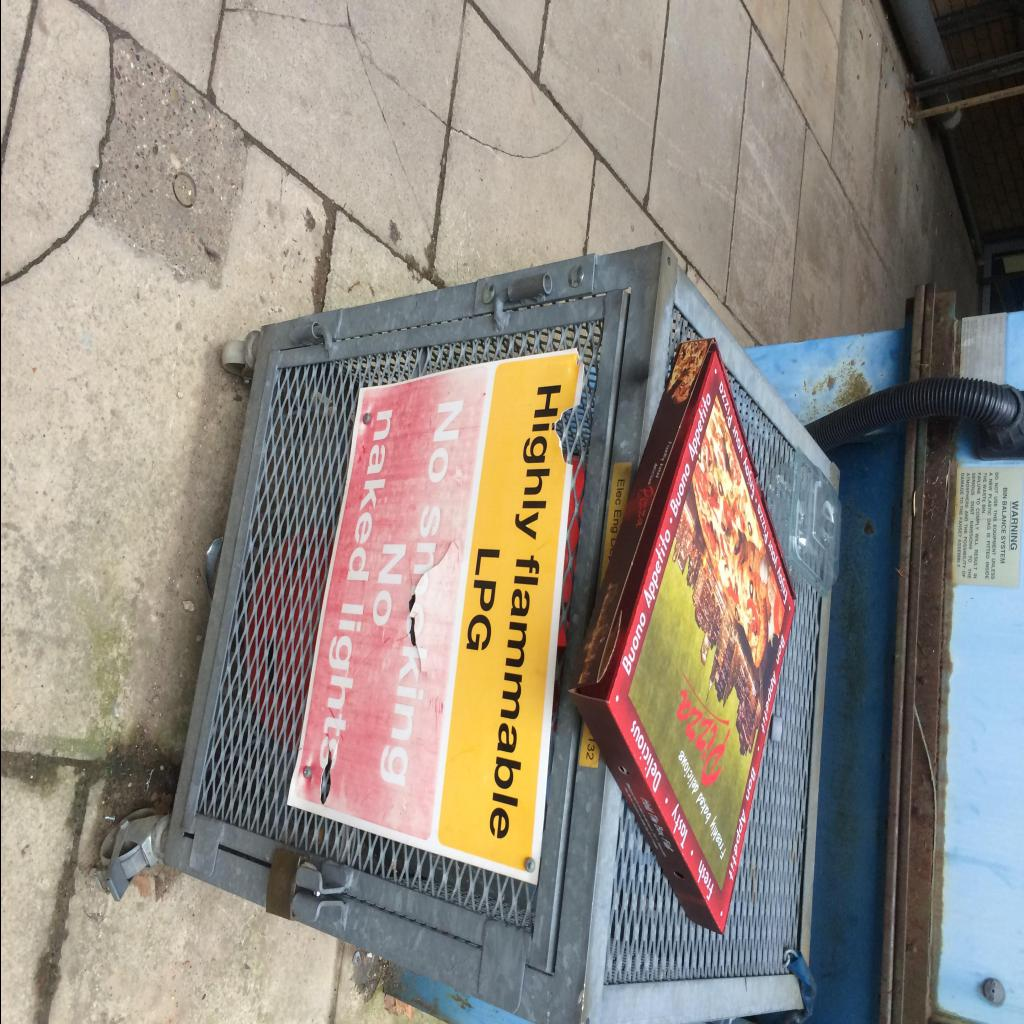Disposable food container: (768, 448, 840, 598)
Pizza box: (570, 340, 796, 934)
